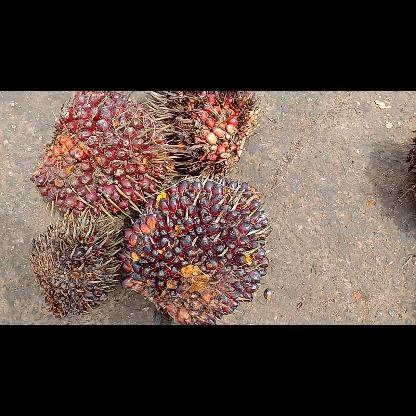Kurang masak: (122, 174, 272, 324)
TBS abnormal: (28, 208, 120, 320)
TBS masak: (28, 92, 170, 220)
Terlalu masak: (144, 92, 258, 178)
